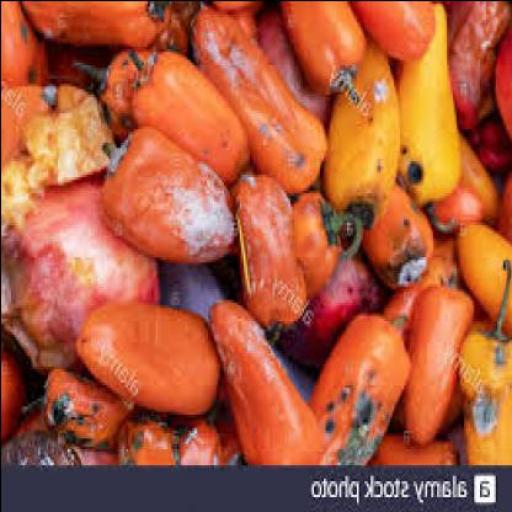biodegradable: (0, 1, 511, 464), (2, 170, 157, 362), (194, 0, 330, 187), (211, 296, 338, 458), (103, 120, 239, 259), (76, 296, 221, 414), (127, 43, 250, 181), (2, 78, 114, 222), (396, 1, 464, 230), (309, 309, 412, 459), (324, 34, 401, 224), (274, 238, 384, 368), (403, 264, 475, 442), (237, 169, 308, 336), (459, 256, 511, 463), (254, 2, 337, 126), (280, 1, 374, 105), (388, 229, 459, 349), (448, 1, 511, 129), (74, 45, 164, 133), (293, 189, 365, 298), (41, 362, 135, 442), (365, 182, 434, 280), (18, 398, 119, 459), (459, 218, 511, 333), (20, 1, 172, 38), (343, 1, 436, 54), (161, 258, 232, 322), (0, 1, 53, 86), (2, 82, 57, 160), (2, 421, 84, 461), (428, 178, 482, 238), (117, 410, 180, 458), (360, 430, 461, 459), (49, 40, 115, 83), (149, 1, 199, 54), (2, 342, 28, 442), (178, 408, 224, 462), (467, 114, 511, 162), (494, 16, 510, 140), (206, 2, 264, 34), (218, 410, 248, 461), (447, 1, 470, 48), (496, 166, 512, 232)
